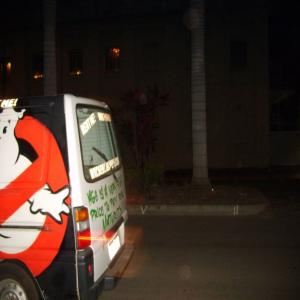Vehicle-registration-plate: (108, 233, 121, 261)
